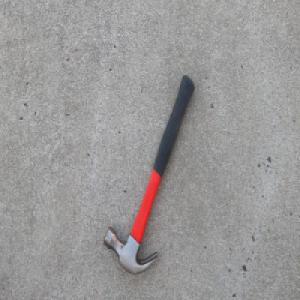Hammer: (102, 73, 195, 278)
